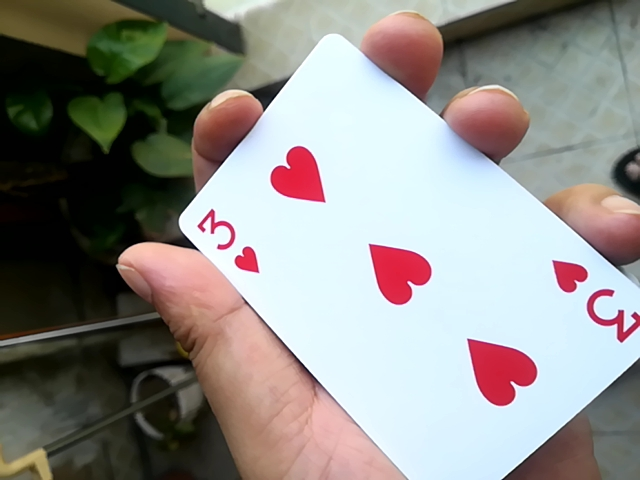hx 3: (160, 34, 635, 480)
